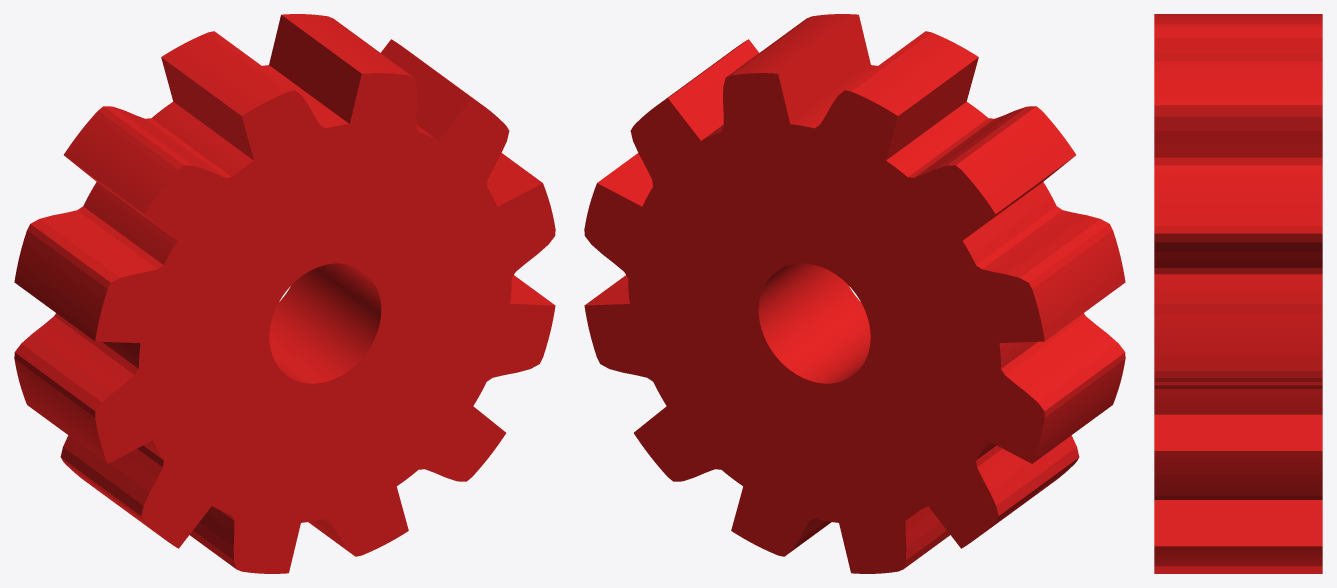
Rendered from gear.obj.
3 views of the same model, side by side, from view 1: azimuth 30°, elevation 25°; view 2: azimuth 150°, elevation 25°; view 3: azimuth 270°, elevation 25° (orthographic). The views are drawn at different scales.
Bounding box in the file's own units: 0.0494 × 0.0494 × 0.015.
